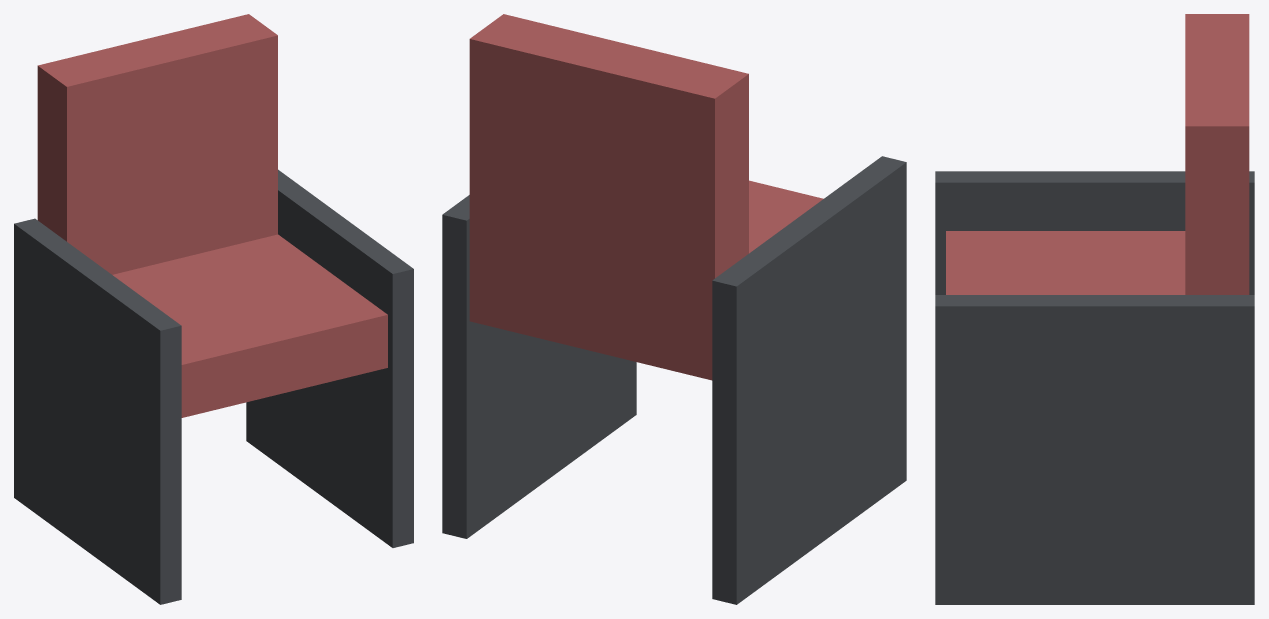
Rendered from 1764-Furniture-interiors-seat.glb.
3 renders of one model, left to right at view 1: azimuth 30°, elevation 25°; view 2: azimuth 150°, elevation 25°; view 3: azimuth 270°, elevation 25°, orthographic. The views are drawn at different scales.
Parts seen in each view (by area): view 1: Furniture (interiors)/seat; view 2: Furniture (interiors)/seat; view 3: Furniture (interiors)/seat.
Part boxes in pixels (left/top/right/bottom): Furniture (interiors)/seat: left=14, top=14, right=413, bottom=604; Furniture (interiors)/seat: left=442, top=14, right=906, bottom=604; Furniture (interiors)/seat: left=935, top=14, right=1254, bottom=604.
Bounding box in the file's own units: 0.6 × 0.97 × 0.6.
